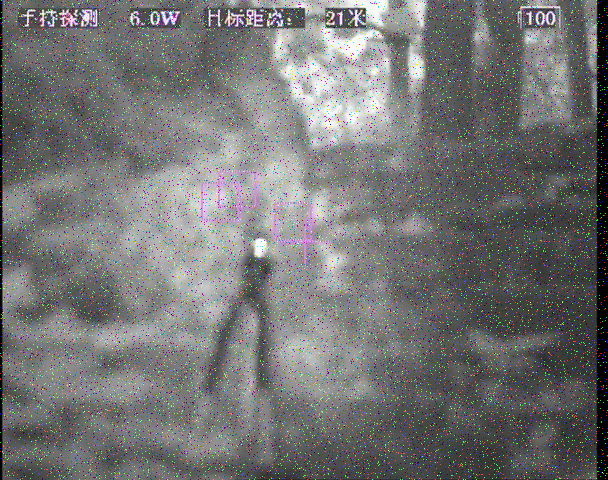my: (250, 237, 271, 258)
